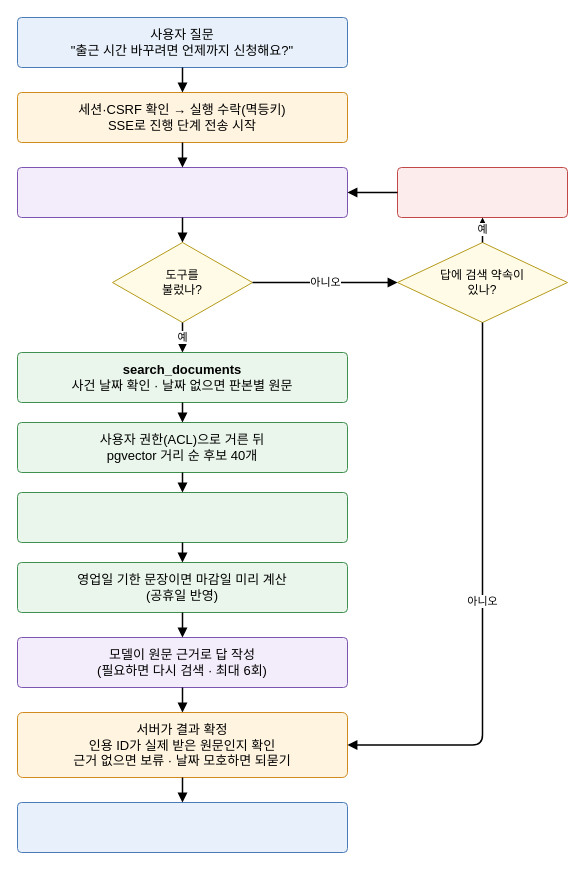
This 585x870 diagram has some shape labels left out. Here are the shapes that lost their labels. From the top down, the centre of each, then its label:
(182,192): Haiku 5.5 호출 질문 + 도구 7개 스키마 + 오늘 날짜
(482,192): 도구를 강제해 한 번만 다시 호출
(182,517): 예산 안에 그룹 통째로 담기 첫 검색은 예산의 75%까지
(182,827): 답 · 인용(문서·판본·쪽) · 결과 유형 메시지와 실행 기록 저장
